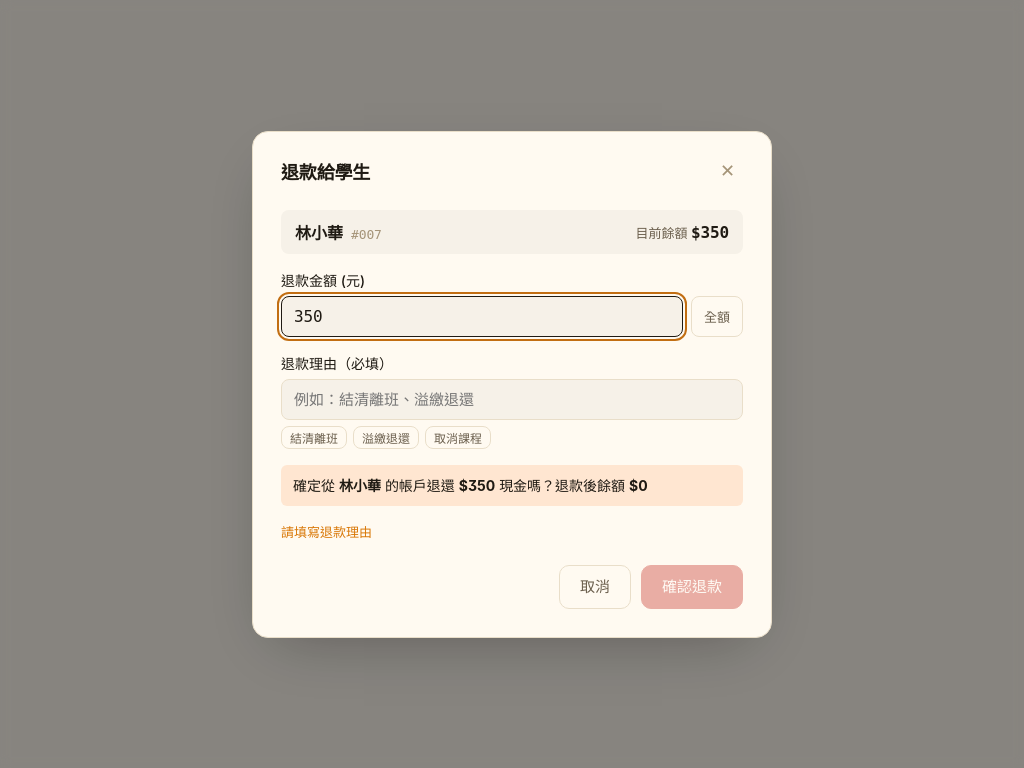
Test: RefundDialog › validates reason: requires non-empty reason
Check: the button "確認退款" is disabled, box [641, 564, 743, 608]
// Click preset reason
Click the button "結清離班".
click(314, 437)  # box [281, 426, 347, 448]
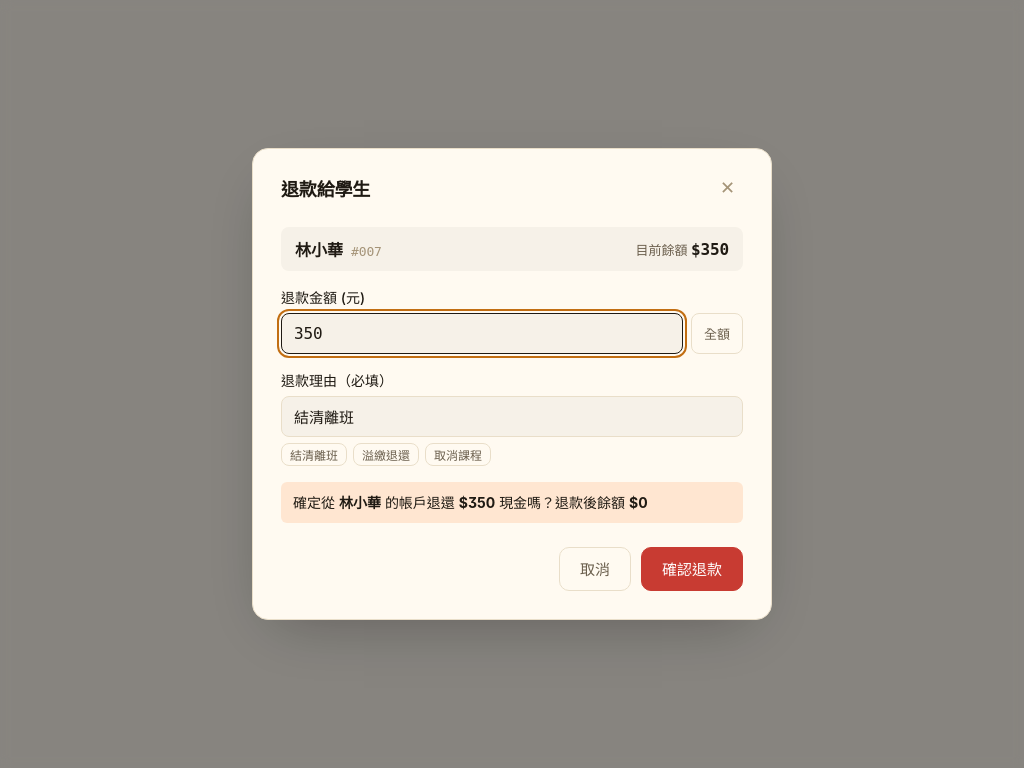
Check: the button "確認退款" is enabled, box [641, 547, 743, 591]
